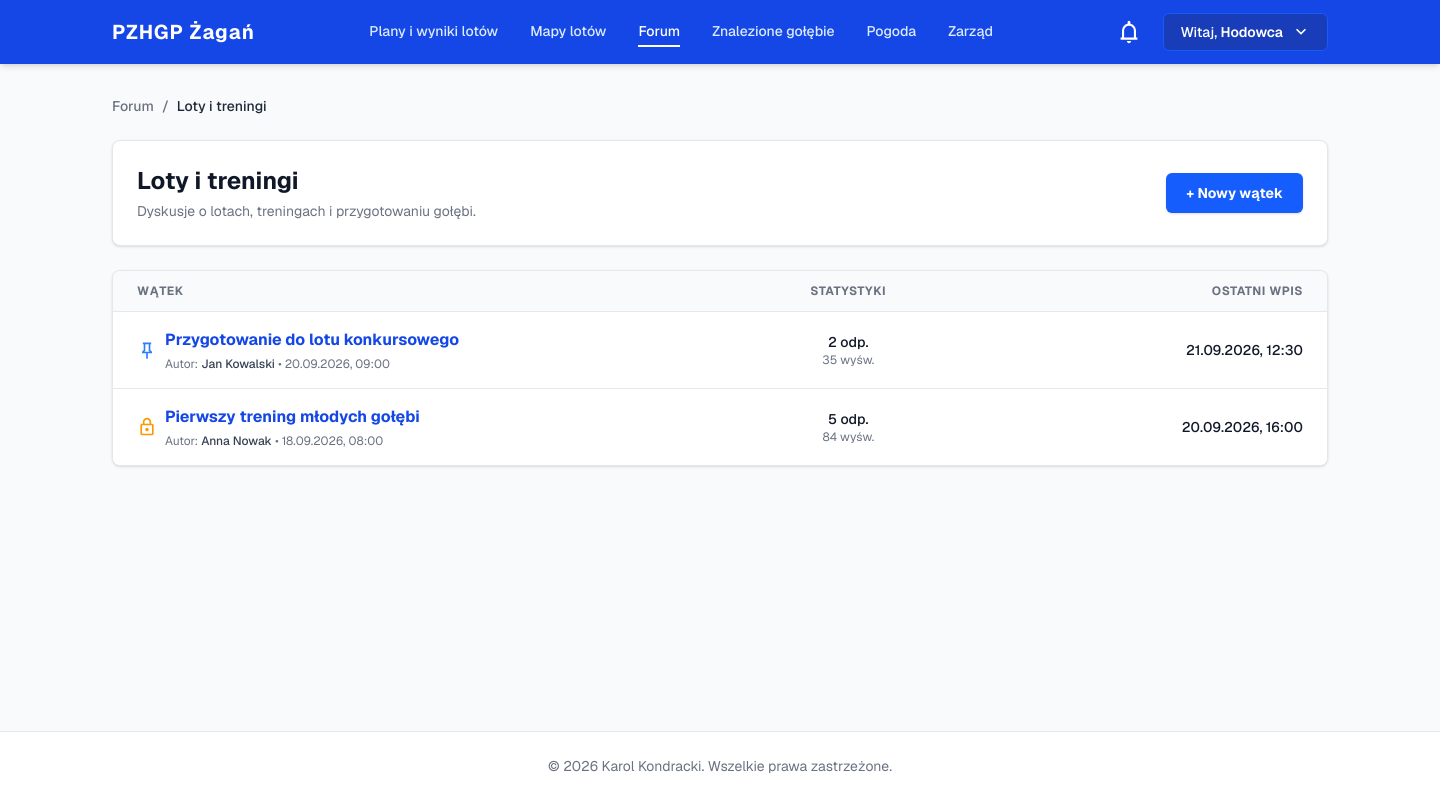
Scenario: Forum Category Page Tests › Authenticated User › Should correctly render the new thread modal and text editor controls
Click the button "+ Nowy wątek": (1235, 193) [1166,173,1303,213]
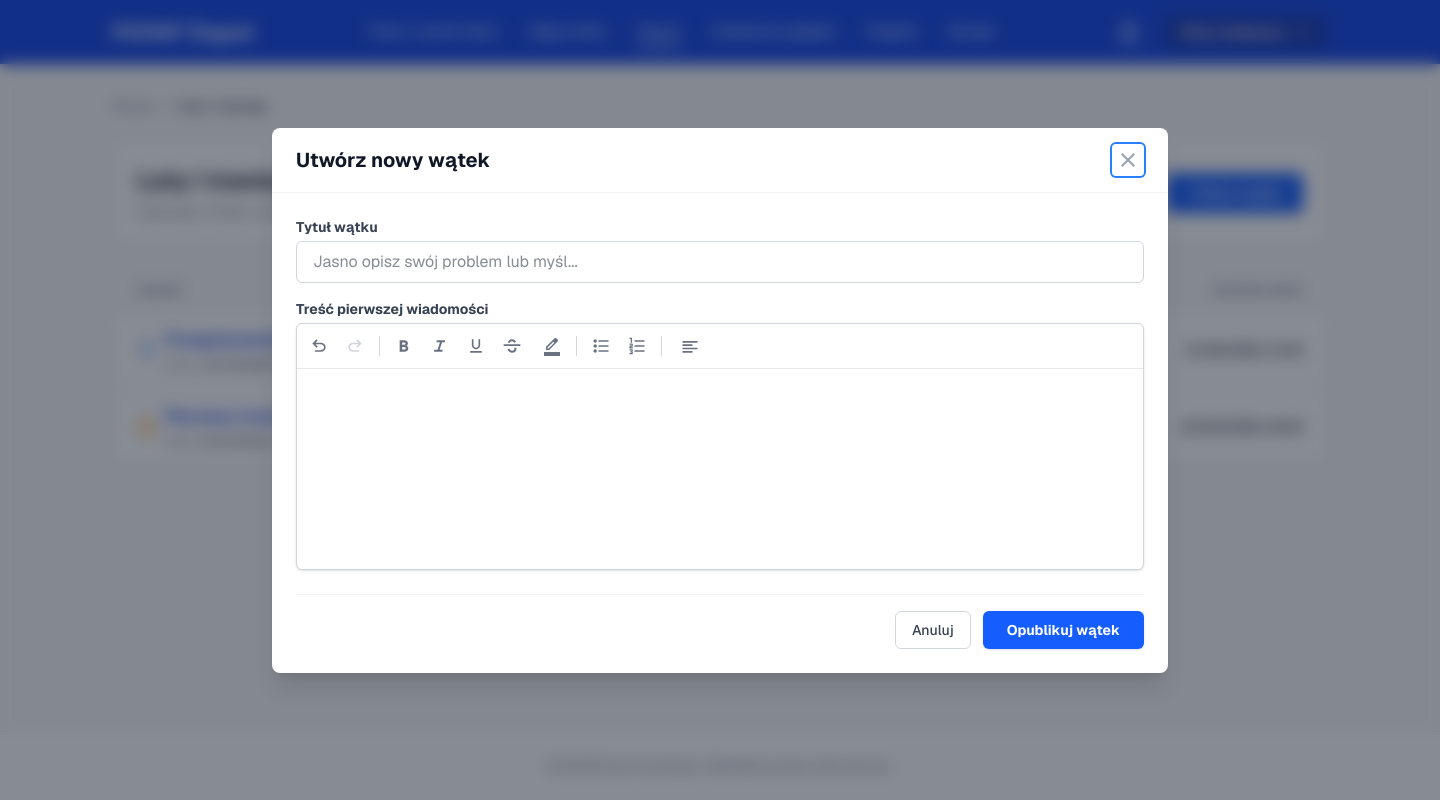
expect the dialog is shown: met, box [272,128,1168,673]
expect the heading "Utwórz nowy wątek" is shown: met, box [296,146,490,174]
expect the text "Tytuł wątku" is shown: met, box [296,218,378,236]
